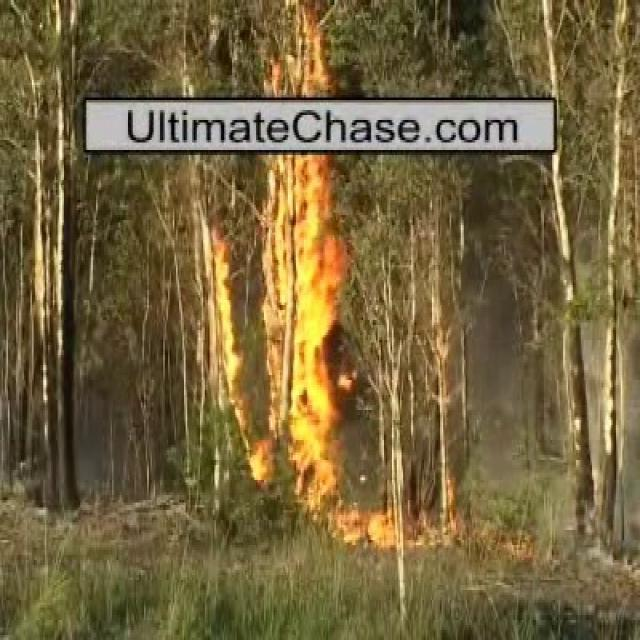Fire: (192, 1, 438, 551)
Smoke: (462, 293, 549, 492)
